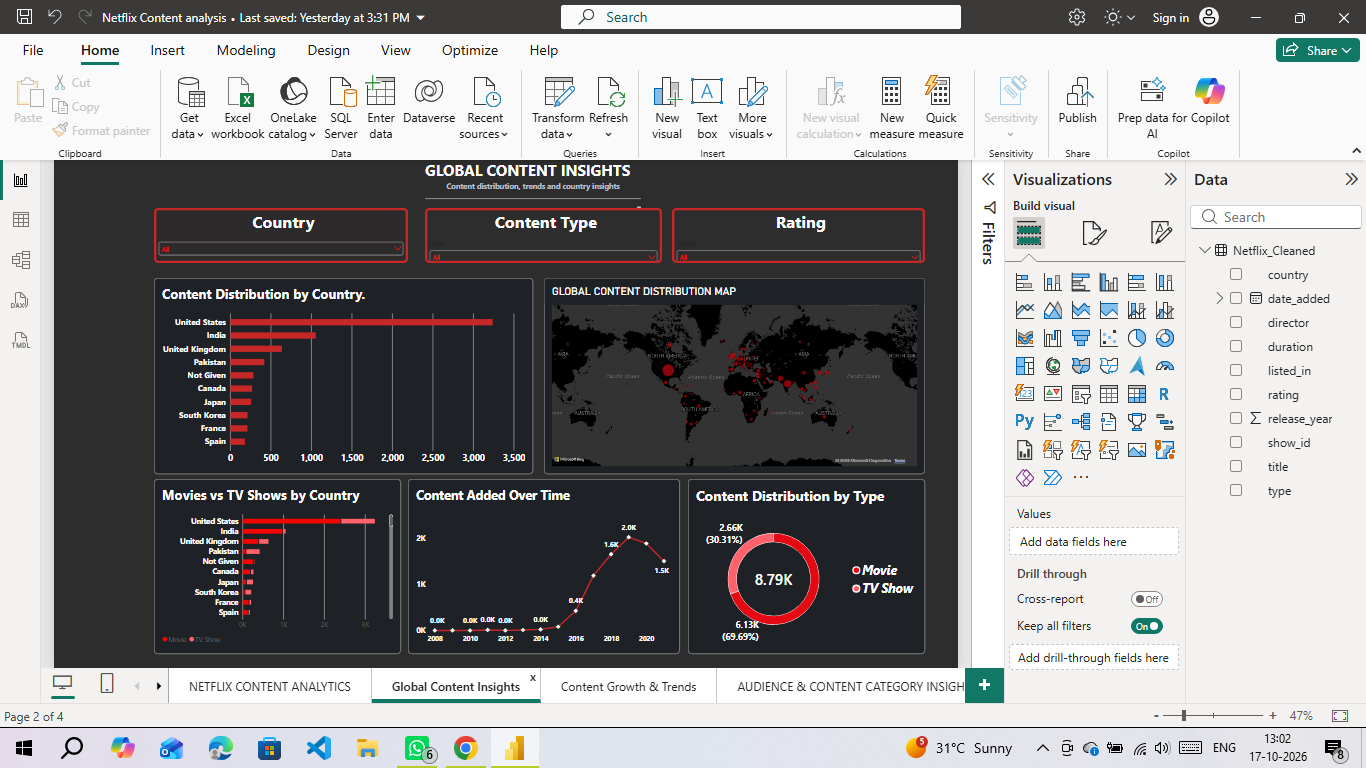

What the dashboard file says about the page in this screenshot:
{"tool":"powerbi","page":{"name":"Global Content Insights","canvas":[1920,1080],"ordinal":1},"visuals":[{"type":"clusteredBarChart","title":"Content Distribution by Country.","fields":{"Category":["Netflix_Cleaned.country"],"Y":["Count(Netflix_Cleaned.show_id)"]},"box":[212.6,250.9,805.7,416.7],"z":0},{"type":"barChart","title":"Movies vs TV Shows by Country","fields":{"Category":["Netflix_Cleaned.country"],"Series":["Netflix_Cleaned.type"],"Y":["Count(Netflix_Cleaned.show_id)"]},"box":[212.6,678.2,525.1,372],"z":1000},{"type":"lineChart","title":"Content Added Over Time","fields":{"Category":["Netflix_Cleaned.date_added.Variation.Date Hierarchy.Year"],"Y":["CountNonNull(Netflix_Cleaned.show_id)"]},"box":[752.6,678.2,578.3,372],"z":2000},{"type":"slicer","title":"Country","fields":{"Values":["Netflix_Cleaned.country"]},"box":[212.6,102,540,116.9],"z":3000},{"type":"slicer","title":"Content Type","fields":{"Values":["Netflix_Cleaned.type"]},"box":[788.7,102,503.9,116.9],"z":4000},{"type":"slicer","title":"Rating","fields":{"Values":["Netflix_Cleaned.rating"]},"box":[1313.9,102,537.9,116.9],"z":5000},{"type":"textbox","title":"GLOBAL CONTENT INSIGHTS","box":[788.7,0,459.2,102],"z":6000},{"type":"donutChart","title":"Content Distribution by Type","fields":{"Category":["Netflix_Cleaned.type"],"Y":["Count(Netflix_Cleaned.show_id)"]},"box":[1347.9,678.2,503.9,372],"z":7000},{"type":"map","title":"GLOBAL CONTENT DISTRIBUTION MAP","fields":{"Category":["Netflix_Cleaned.country"],"Size":["Count(Netflix_Cleaned.show_id)"]},"box":[1041.7,250.9,780.2,416.7],"z":8000}]}

Visuals, with their boxes on the page's 1920x1080 design canvas (x1, y1, x2, y2). These are canvas units, not pixel positions in the 1366x768 screenshot, which may show the page scaled, cropped or inside an application window:
"Content Distribution by Country." clusteredBarChart: <bbox>213, 251, 1018, 668</bbox>
"Movies vs TV Shows by Country" barChart: <bbox>213, 678, 738, 1050</bbox>
"Content Added Over Time" lineChart: <bbox>753, 678, 1331, 1050</bbox>
"Country" slicer: <bbox>213, 102, 753, 219</bbox>
"Content Type" slicer: <bbox>789, 102, 1293, 219</bbox>
"Rating" slicer: <bbox>1314, 102, 1852, 219</bbox>
"GLOBAL CONTENT INSIGHTS" textbox: <bbox>789, 0, 1248, 102</bbox>
"Content Distribution by Type" donutChart: <bbox>1348, 678, 1852, 1050</bbox>
"GLOBAL CONTENT DISTRIBUTION MAP" map: <bbox>1042, 251, 1822, 668</bbox>
